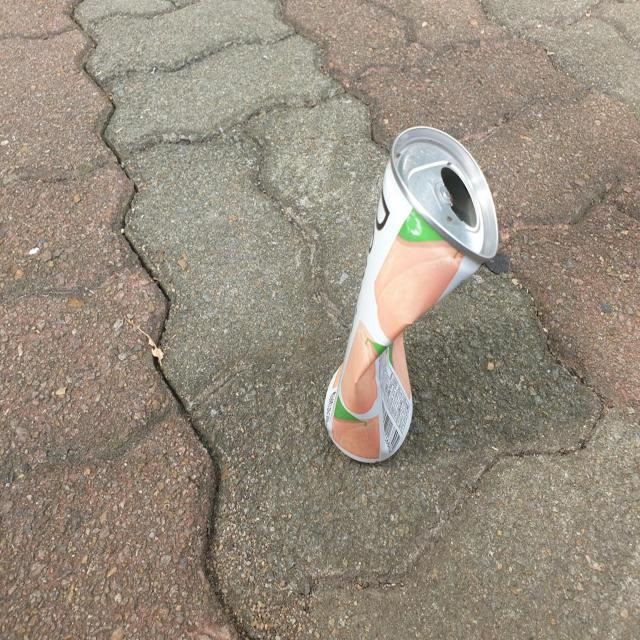can: (325, 126, 499, 463)
